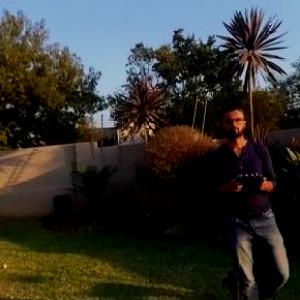follow: (208, 99, 297, 299)
